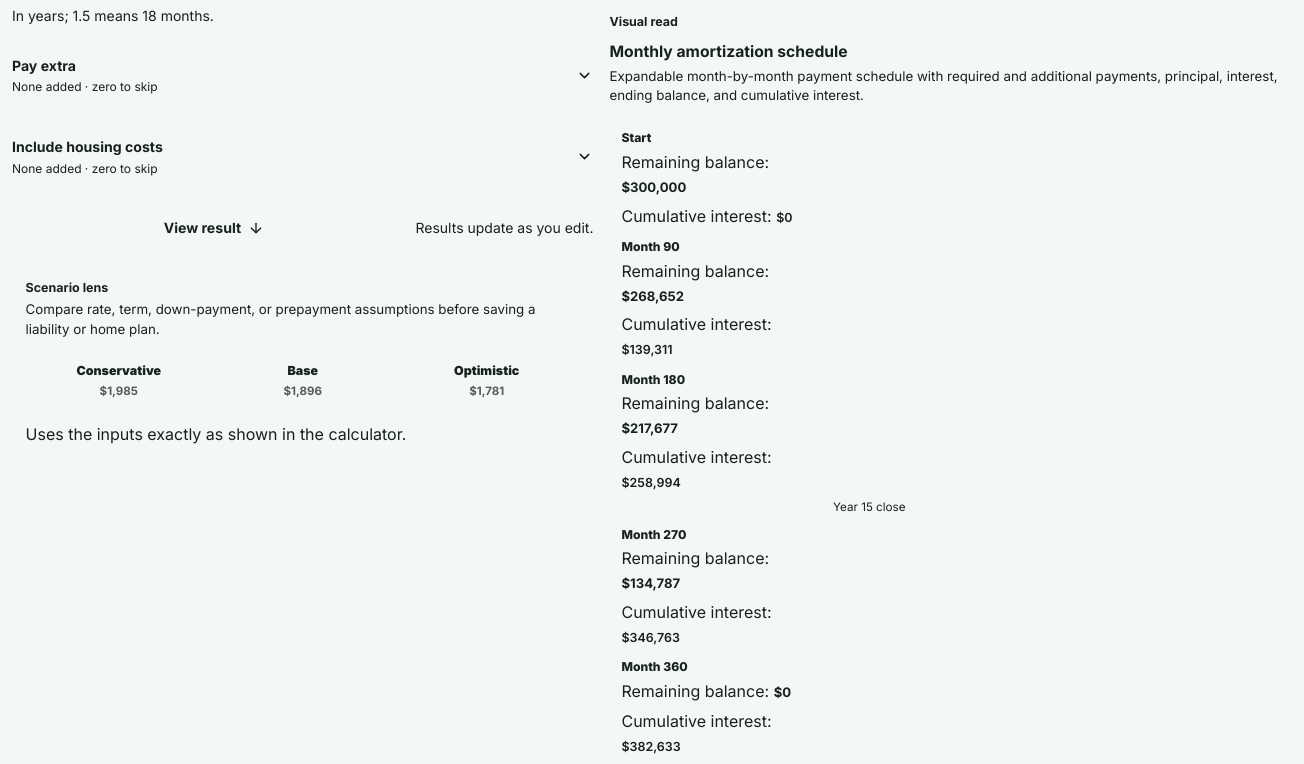
it: B20: Generic calculator reordering, hierarchy, and accessible disclosures › lists exactly which inputs a scenario changes, with before and after values
(page scrolled)
Click the tab with class "calculator-scenario-tab" showing "Conservative $1,985" at [119, 381], box [30,355,208,407]
(page scrolled)
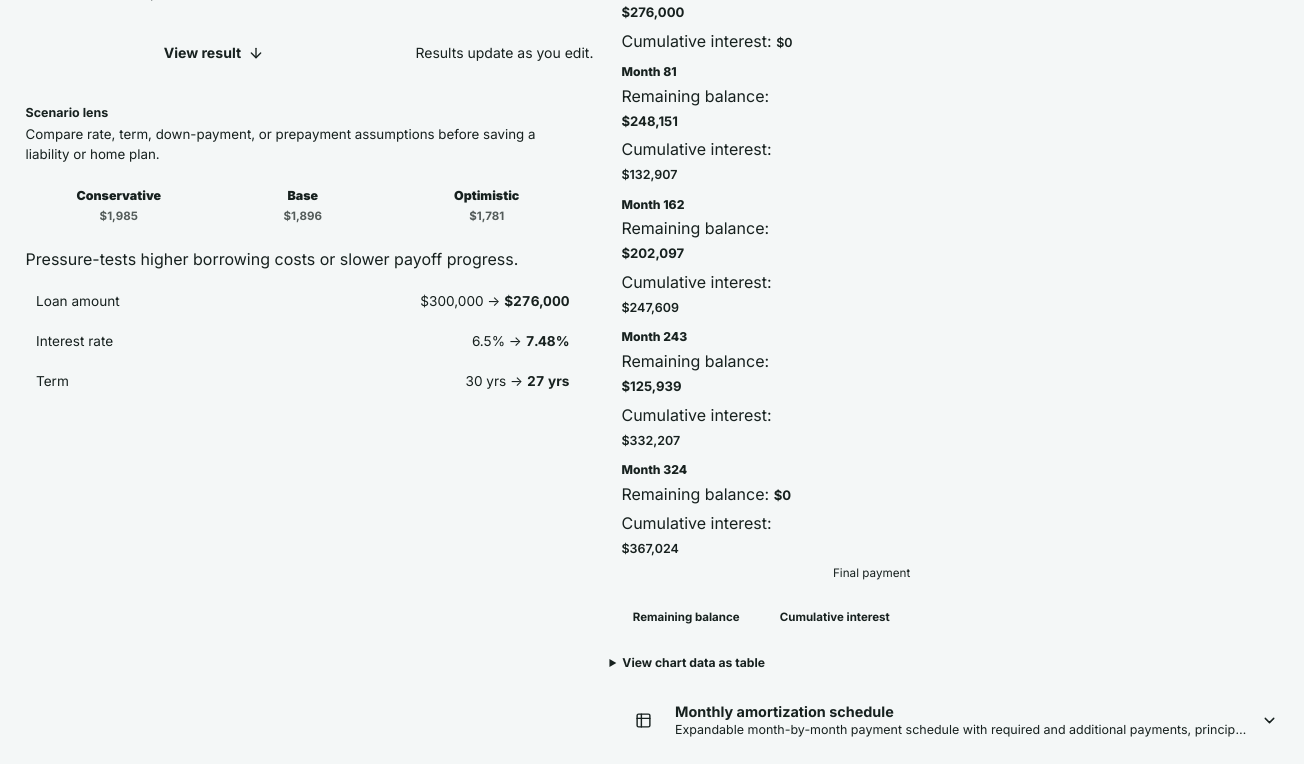
expect the list item "Loan amount $300,000 → $276,000" is shown: met, box [36,293,570,309]
expect the list item "Interest rate 6.5% → 7.48%" is shown: met, box [36,333,570,349]
expect the list item "Term 30 yrs → 27 yrs" is shown: met, box [36,373,570,389]
